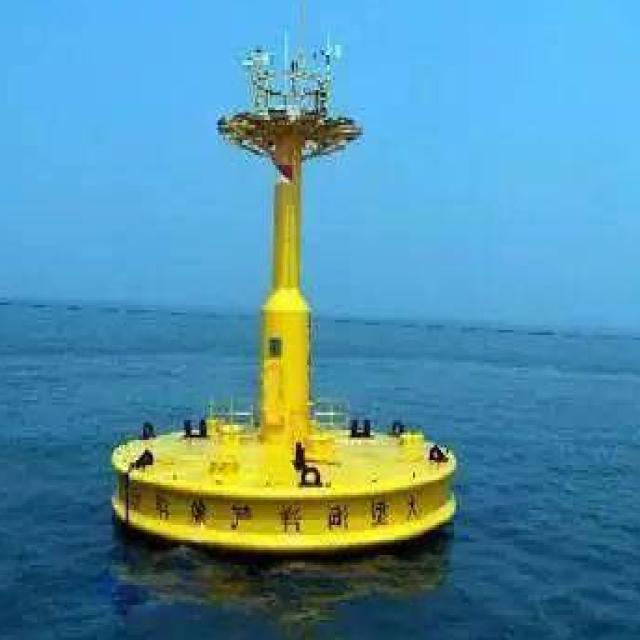buoy: (108, 22, 460, 562)
